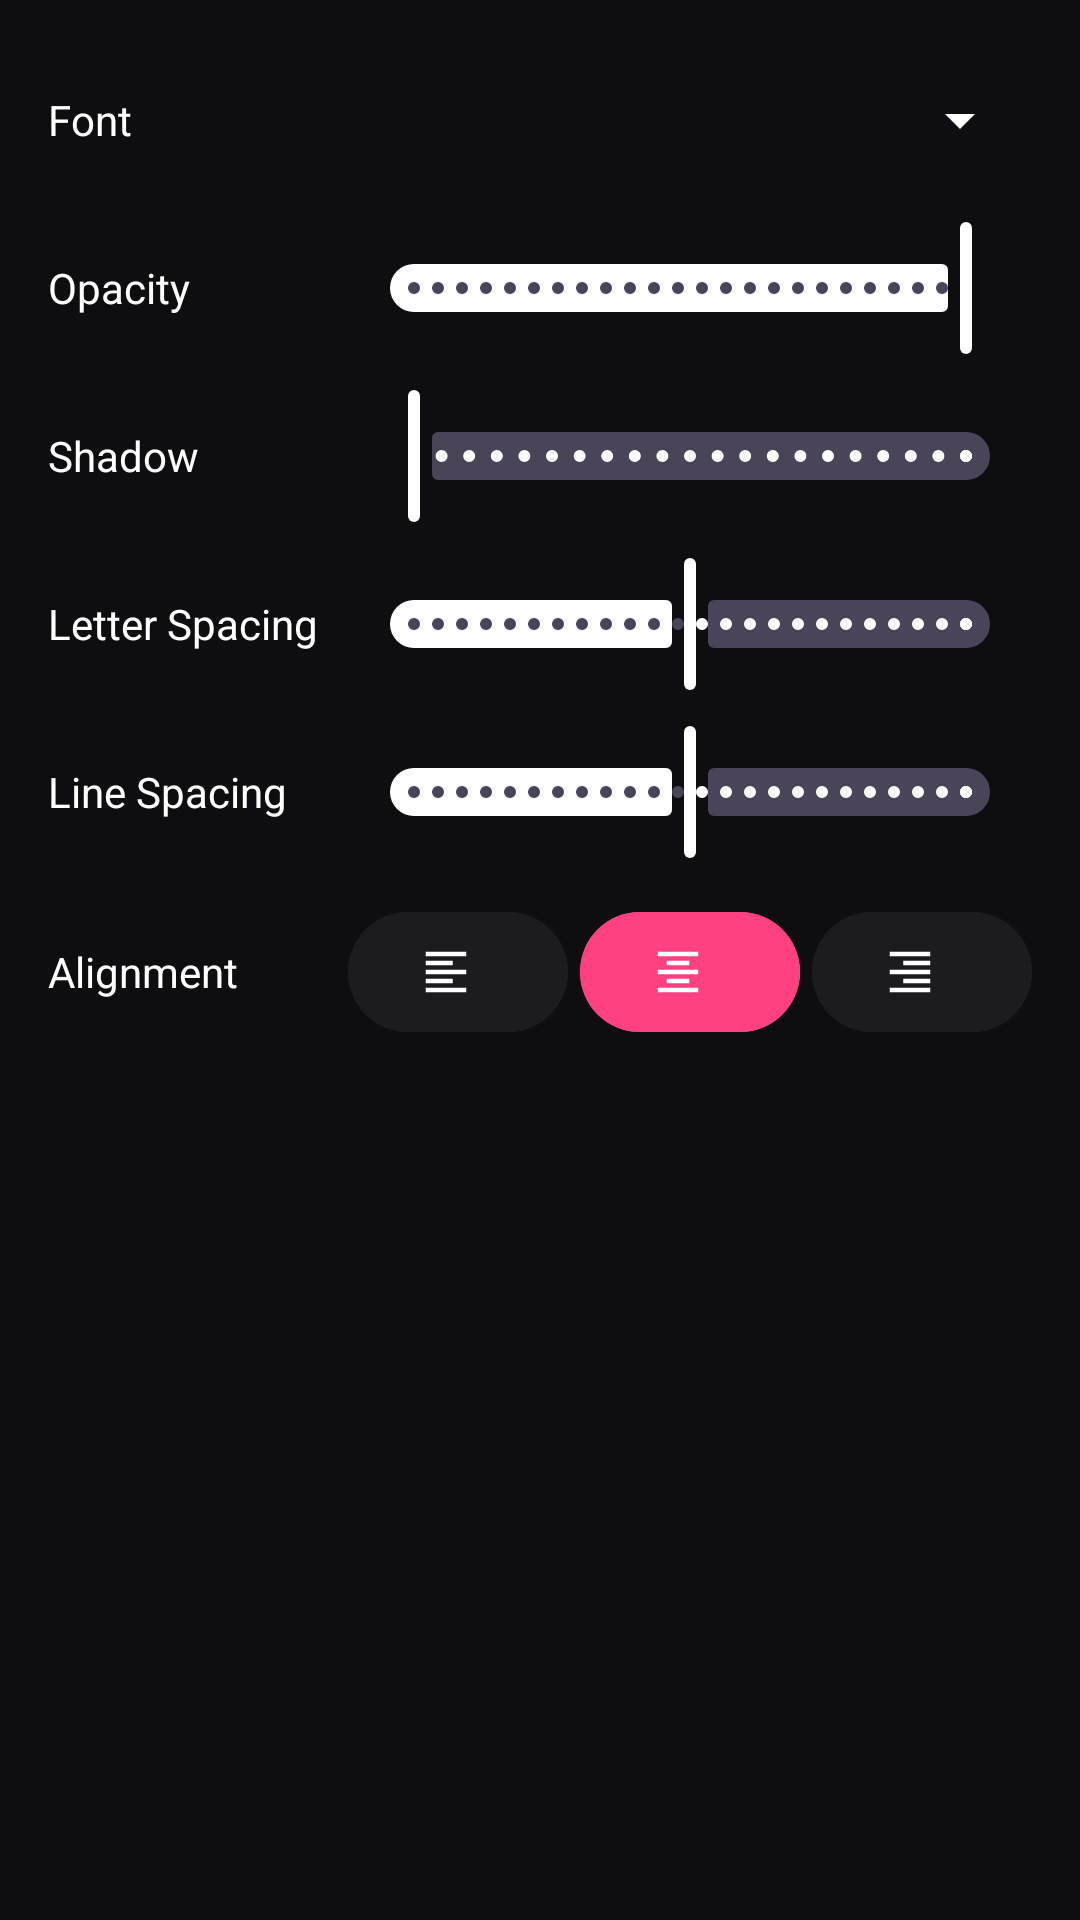

Icons on this 1080w x 1920h Android screen, each with the point to tap as (x=x, y=y):
align center: (x=690, y=972)
align left: (x=446, y=972)
align right: (x=910, y=972)
